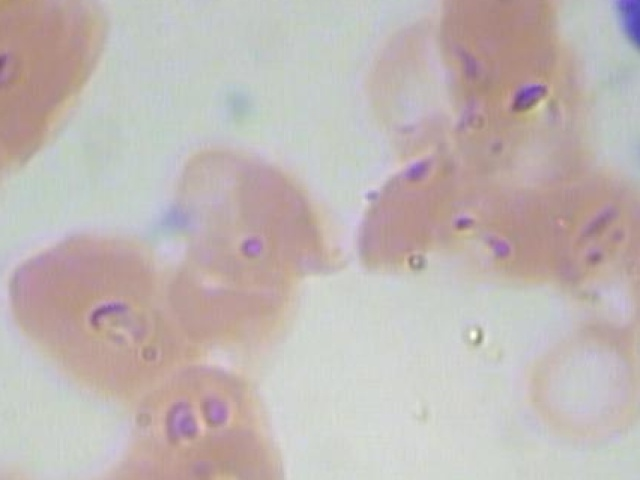RBC: (162, 135, 340, 289), (0, 222, 176, 376), (523, 312, 640, 455), (0, 0, 109, 112), (434, 0, 561, 62), (159, 427, 295, 480), (0, 79, 25, 233), (38, 456, 179, 480), (0, 456, 52, 480), (0, 0, 40, 21), (639, 456, 640, 480)
WBC: (592, 0, 640, 99)
